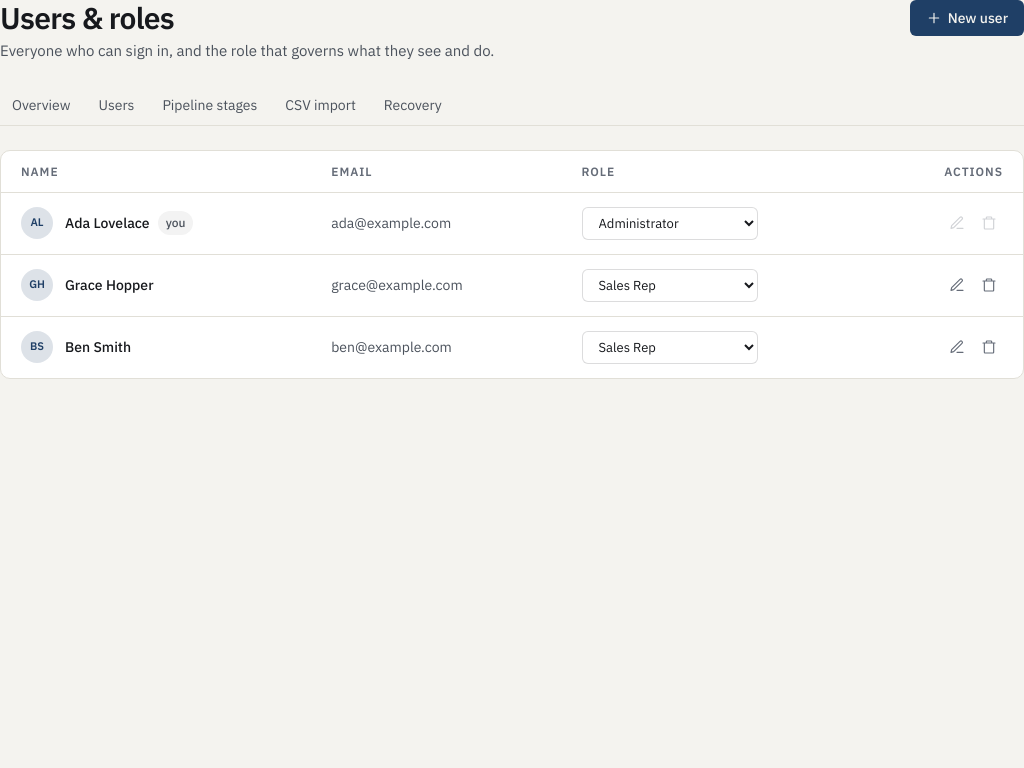
Test case: AdminUsersPage › deletes a user after confirmation and removes the row
The image size is (1024, 768).
Expected: the text "Ada Lovelace" is shown, top-left (65, 213), bottom-right (150, 233)
Click the button named "Delete Grace Hopper" at coordinates (989, 285), box top-left (975, 271), bottom-right (1003, 299)
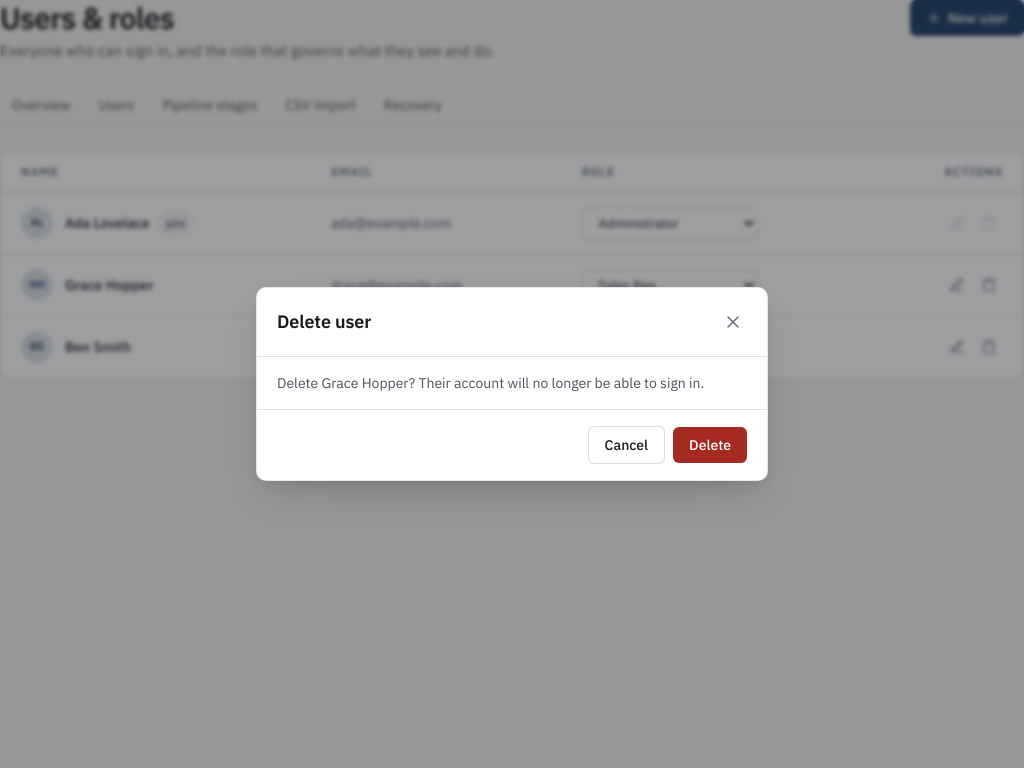
Expected: the dialog "Delete user" shows "Delete Grace Hopper? Their account will no longer be able to sign in.", top-left (277, 374), bottom-right (704, 392)
Click the button "Delete" at coordinates (710, 445), box top-left (673, 427), bottom-right (747, 463)
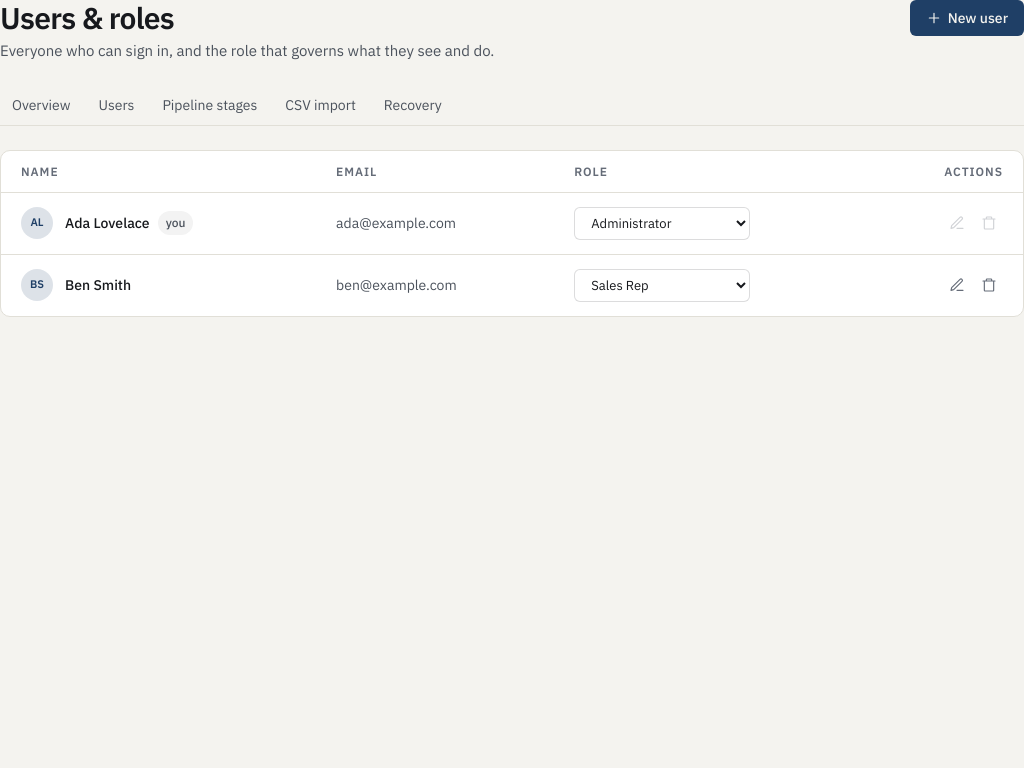
Expected: the text "Ada Lovelace" is shown, top-left (65, 213), bottom-right (150, 233)
Expected: the text "Grace Hopper" is gone
